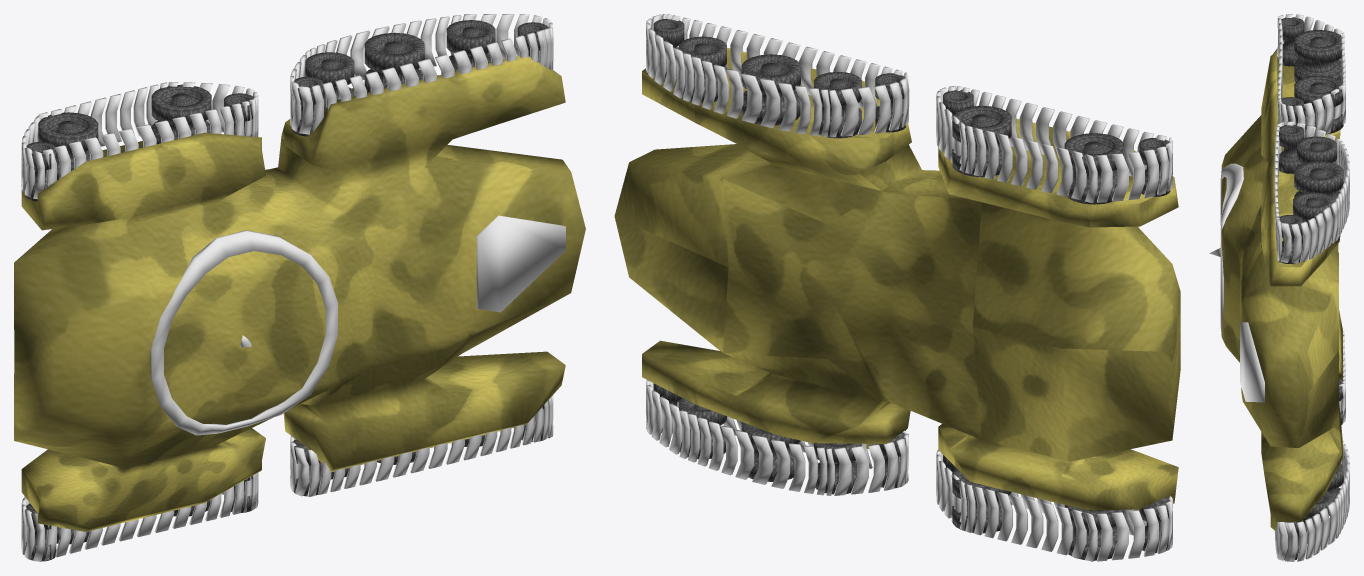
Rendered from Behemoth.fbx.
The picture shows the model from 3 angles, left to right: view 1: azimuth 30°, elevation 25°; view 2: azimuth 150°, elevation 25°; view 3: azimuth 270°, elevation 25°; orthographic projection. The views are drawn at different scales.
Visible parts, largest first — view 1: Base, Color, Color1, Wheels; view 2: Base, Color, Wheels; view 3: Base, Wheels, Color, Color1.
Part boxes in pixels (x1,y1,x2,y2): Base: (14, 56, 585, 531); Color: (21, 14, 553, 561); Color1: (151, 215, 565, 435); Wheels: (25, 20, 548, 561); Base: (614, 47, 1180, 510); Color: (646, 14, 1172, 561); Wheels: (653, 19, 1170, 560); Base: (1221, 48, 1343, 530); Wheels: (1278, 17, 1343, 559); Color: (1274, 14, 1349, 561); Color1: (1220, 163, 1264, 402).
Bounding box in the file's own units: 123 × 85.24 × 32.25.
